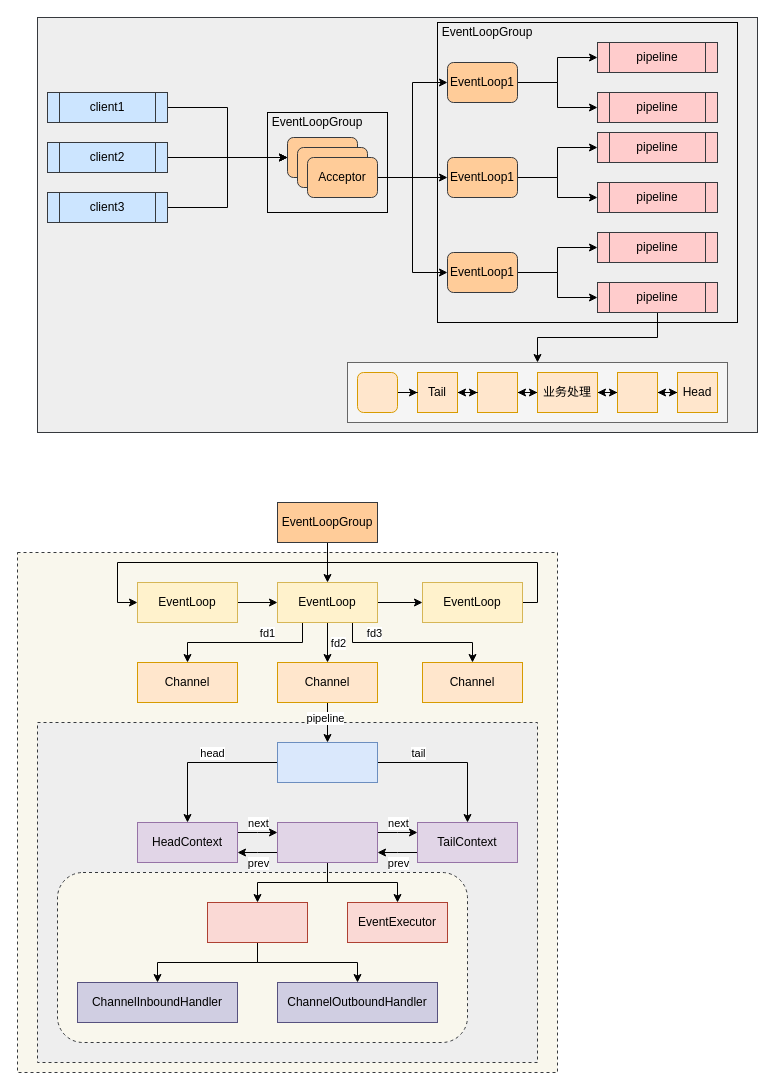
This 775x1090 diagram has some shape labels left out. The shapes that lost their labels are listed below. From the top down, each one's box as (x1, y1, x2, y2) in pixels, then its label:
(356, 372, 398, 412): fd
(476, 372, 518, 412): 解码
(616, 372, 658, 412): 编码
(276, 742, 378, 782): ChannelPipeline
(276, 822, 378, 862): ChannelContext
(206, 902, 308, 942): ChannelHandler
